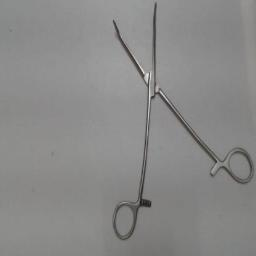Lahey Forceps: (109, 0, 255, 244)
